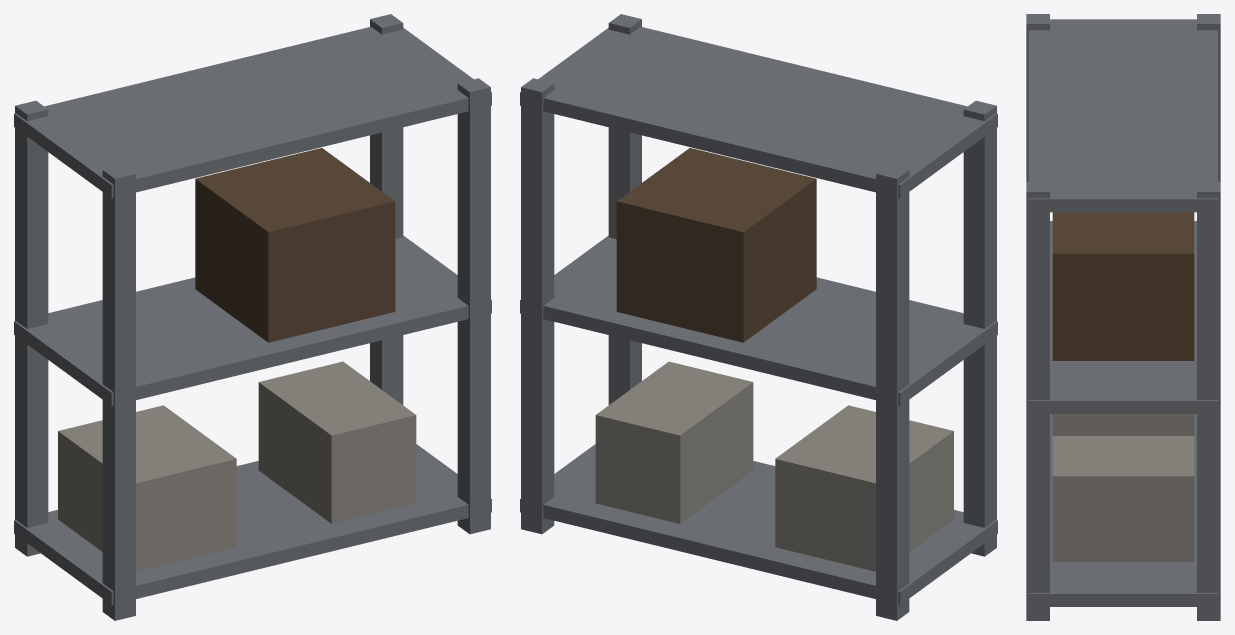
The model's file is shelving.glb.
3 renders of one model, left to right at view 1: azimuth 30°, elevation 25°; view 2: azimuth 150°, elevation 25°; view 3: azimuth 270°, elevation 25°, orthographic. The views are drawn at different scales.
Visible parts, largest first — view 1: shelf_2, goods_2, shelf_1, goods_1, shelf_0, goods_0, post_1, post_3, post_0, post_2; view 2: shelf_2, goods_2, shelf_1, goods_1, shelf_0, goods_0, post_0, post_2, post_1, post_3; view 3: shelf_2, goods_2, goods_1, post_2, post_3, shelf_1, shelf_0, goods_0, post_0, post_1.
Part boxes in pixels (bbox=[...]): shelf_2: bbox=[14, 26, 491, 198]; goods_2: bbox=[195, 148, 395, 342]; shelf_1: bbox=[14, 235, 491, 405]; goods_1: bbox=[258, 361, 416, 523]; shelf_0: bbox=[14, 444, 491, 604]; goods_0: bbox=[58, 405, 236, 571]; post_1: bbox=[102, 165, 135, 620]; post_3: bbox=[457, 78, 490, 534]; post_0: bbox=[15, 100, 48, 556]; post_2: bbox=[370, 14, 403, 404]; shelf_2: bbox=[520, 26, 997, 198]; goods_2: bbox=[616, 148, 816, 342]; shelf_1: bbox=[520, 235, 997, 405]; goods_1: bbox=[595, 361, 753, 523]; shelf_0: bbox=[520, 444, 997, 604]; goods_0: bbox=[775, 405, 953, 571]; post_0: bbox=[876, 165, 909, 620]; post_2: bbox=[521, 78, 554, 534]; post_1: bbox=[963, 100, 996, 556]; post_3: bbox=[608, 14, 641, 404]; shelf_2: bbox=[1029, 19, 1217, 212]; goods_2: bbox=[1052, 212, 1194, 360]; goods_1: bbox=[1052, 436, 1194, 561]; post_2: bbox=[1197, 182, 1220, 620]; post_3: bbox=[1026, 182, 1049, 620]; shelf_1: bbox=[1029, 221, 1217, 413]; shelf_0: bbox=[1029, 414, 1217, 606]; goods_0: bbox=[1052, 414, 1194, 435]; post_0: bbox=[1197, 14, 1220, 181]; post_1: bbox=[1026, 14, 1049, 181].
Bounding box in the file's own units: 0.9 × 1 × 0.41.
